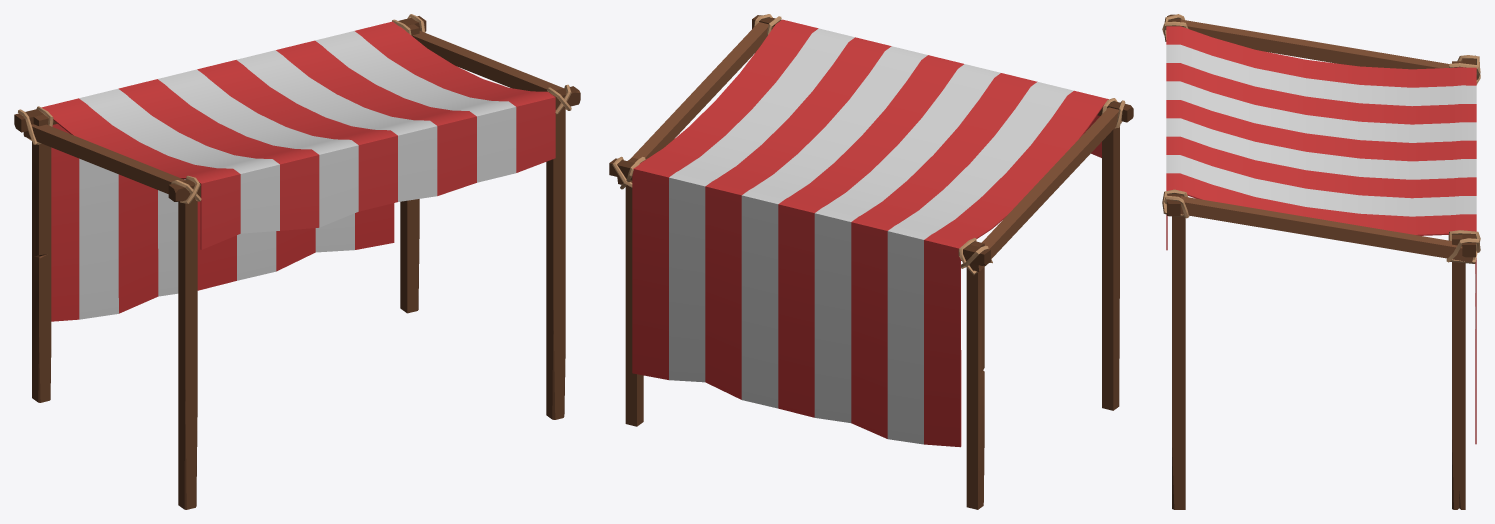
The model's file is Market_01.glb.
3 views of the same model, side by side, from view 1: azimuth 30°, elevation 25°; view 2: azimuth 150°, elevation 25°; view 3: azimuth 270°, elevation 25° (orthographic). The views are drawn at different scales.
Parts seen in each view (by area): view 1: Market_01_LOD0; view 2: Market_01_LOD0; view 3: Market_01_LOD0.
Part boxes in pixels (x1,y1,x2,y2): Market_01_LOD0: (14,14,580,509); Market_01_LOD0: (609,14,1133,509); Market_01_LOD0: (1162,14,1480,509).
Size of what is drawn, in the model's own units: 3.3 by 2.56 by 2.35.
1 material, 1 textured.
